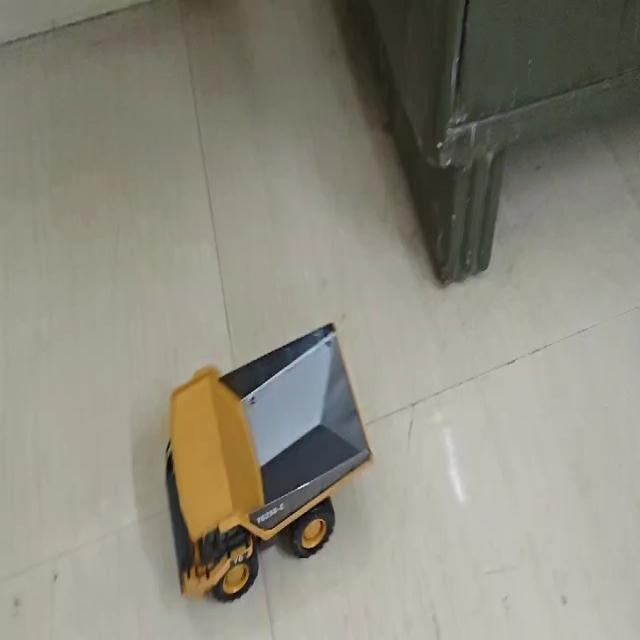dump_truck: (135, 319, 374, 612)
